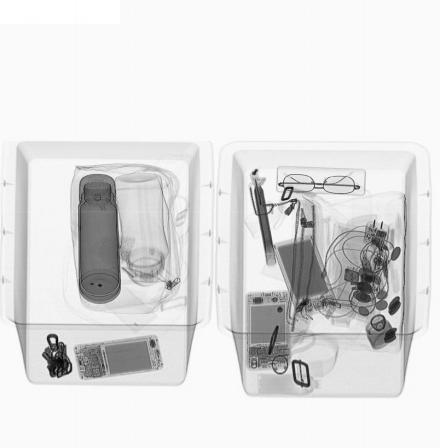Powerbank: (272, 235, 340, 316)
